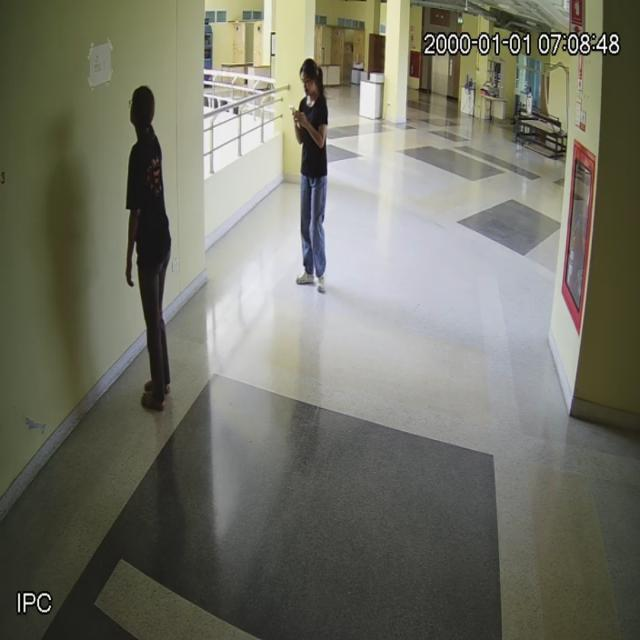normal: (121, 84, 179, 416), (289, 53, 334, 299)
